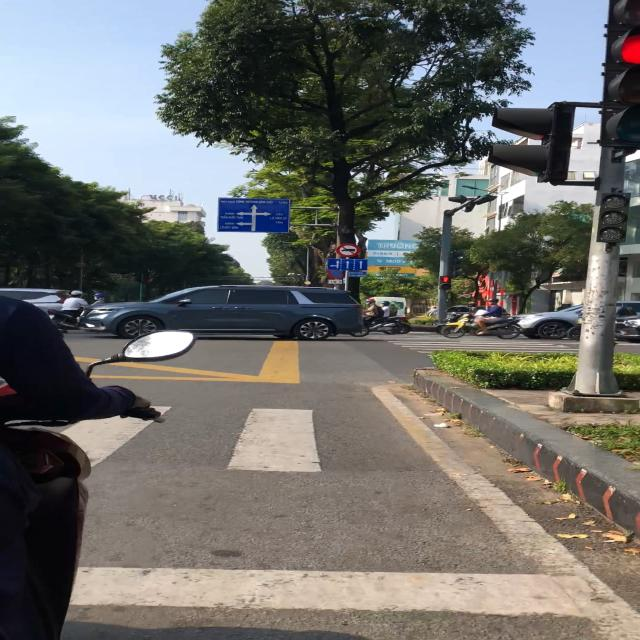Bien bao cam xe so-mi ro-mooc: (334, 241, 363, 259)
